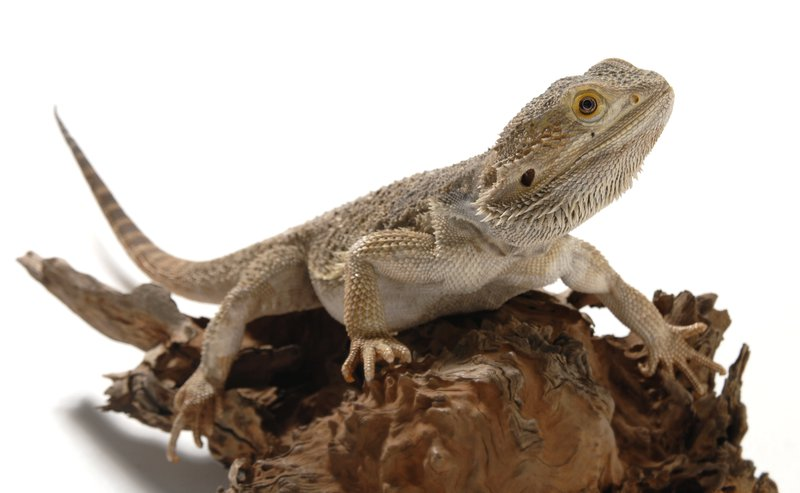bearded: (52, 56, 726, 427)
